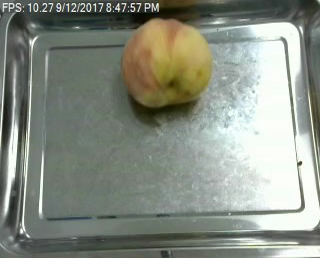Peach: (122, 17, 213, 106)
